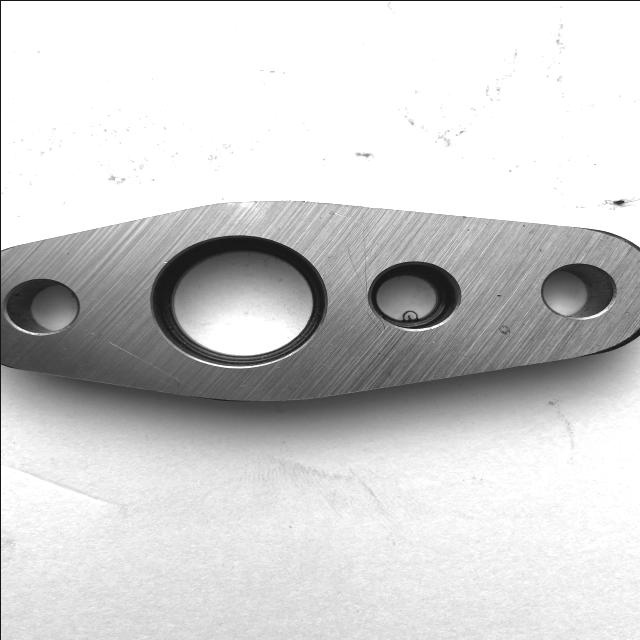chap: (160, 257, 169, 265)
lines: (107, 339, 169, 384), (344, 240, 368, 294), (363, 311, 388, 338), (495, 319, 513, 341)
